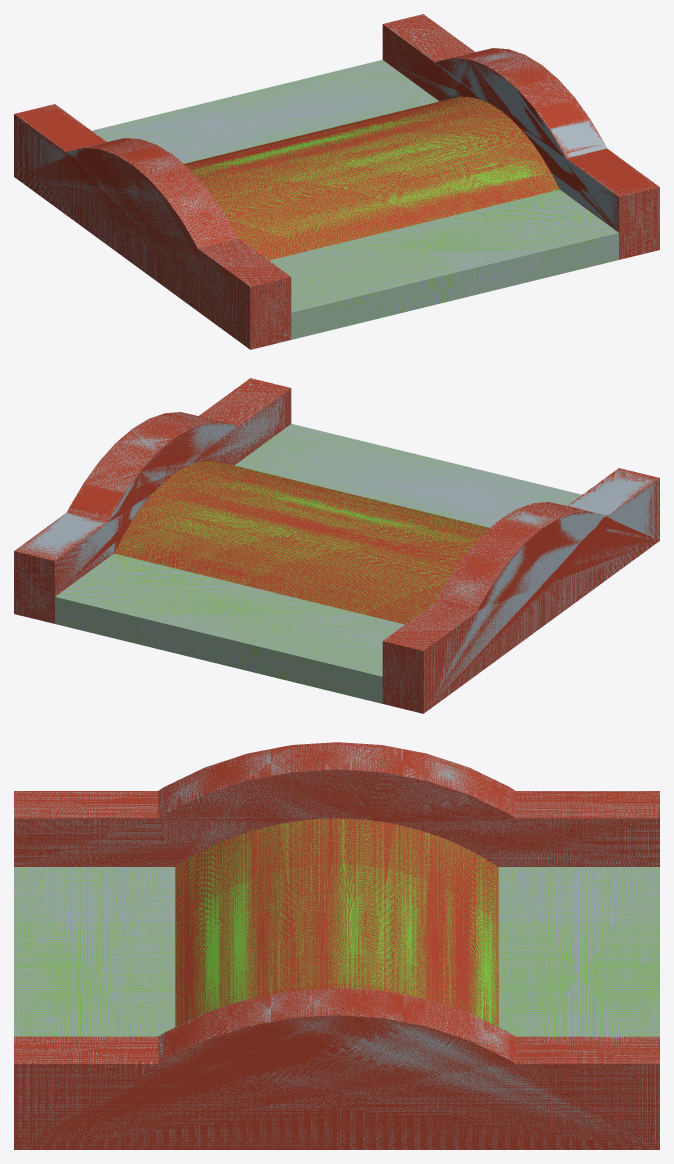
Rendered from Hill_round_01.obj.
3 renders of one model, top to bottom at view 1: azimuth 30°, elevation 25°; view 2: azimuth 150°, elevation 25°; view 3: azimuth 270°, elevation 25°, orthographic. The views are drawn at different scales.
Parts seen in each view (by area): view 1: Mesh1 Hill_round Model; view 2: Mesh1 Hill_round Model; view 3: Mesh1 Hill_round Model.
Boxes of the visible parts, bbox=[...] form: Mesh1 Hill_round Model: bbox=[14, 14, 659, 349]; Mesh1 Hill_round Model: bbox=[14, 378, 659, 713]; Mesh1 Hill_round Model: bbox=[14, 742, 659, 1149].
Bounding box in the file's own units: 3 × 0.69 × 3.
